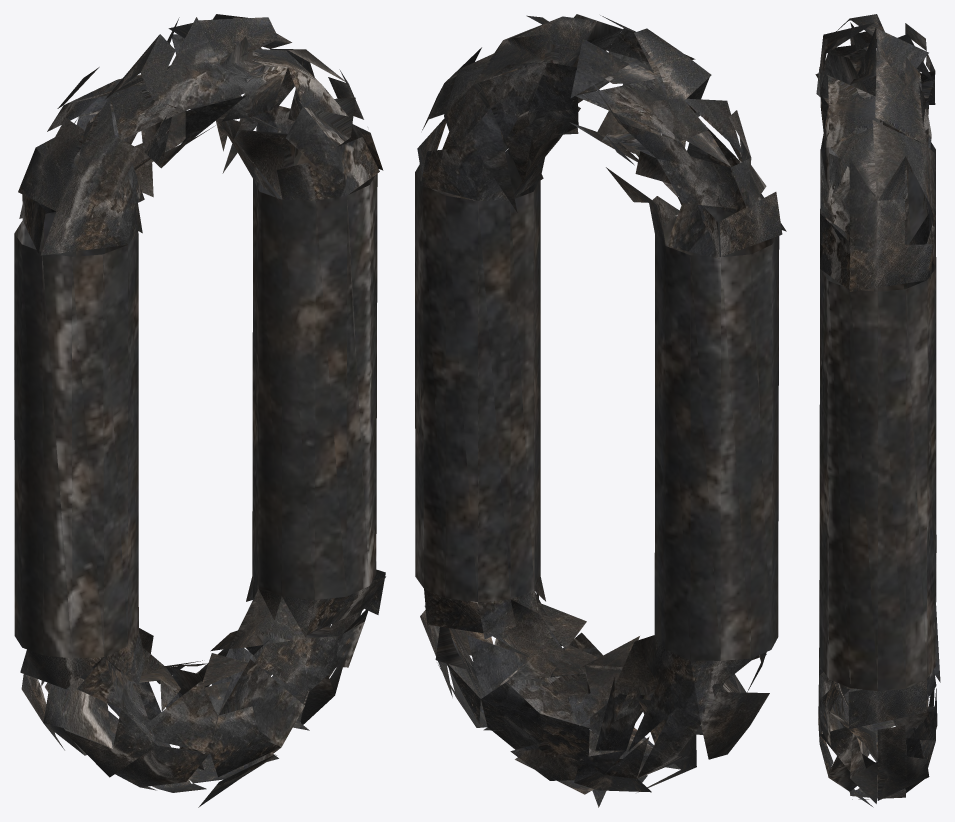
The model's file is iron-link.glb.
3 renders of one model, left to right at view 1: azimuth 30°, elevation 25°; view 2: azimuth 150°, elevation 25°; view 3: azimuth 270°, elevation 25°, orthographic.
Parts seen in each view (by area): view 1: iron-link_LOD0; view 2: iron-link_LOD0; view 3: iron-link_LOD0.
Boxes of the visible parts, x1,y1,x2,y2 form: iron-link_LOD0: (14,14,385,807); iron-link_LOD0: (415,14,786,807); iron-link_LOD0: (815,14,940,807).
Size of what is drawn, in the model's own units: 0.4803 by 1.04 by 0.1499.
Materials: 1 (1 with a texture image).
